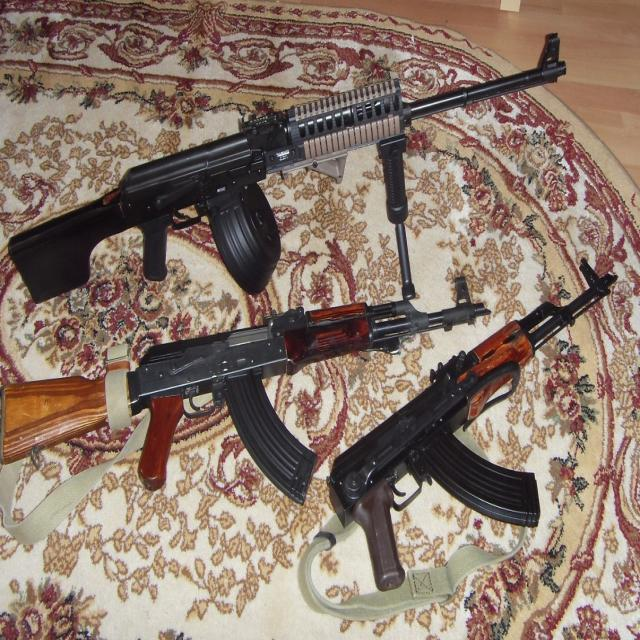firearm: (9, 32, 567, 304), (0, 277, 491, 501), (332, 260, 618, 592)
